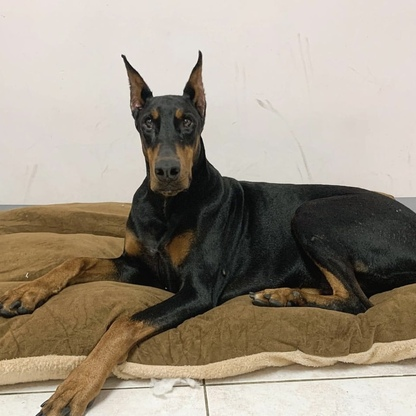doberman: (114, 48, 416, 314)
